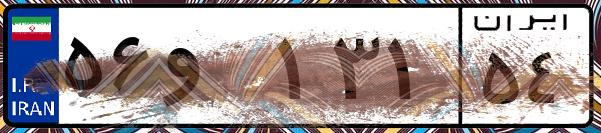1: (270, 28, 330, 110), (385, 28, 445, 110)
3: (330, 28, 385, 110)
4: (525, 38, 570, 115)
5: (57, 26, 110, 100), (475, 38, 525, 113)
6: (110, 28, 158, 98)
و: (158, 20, 270, 120)
